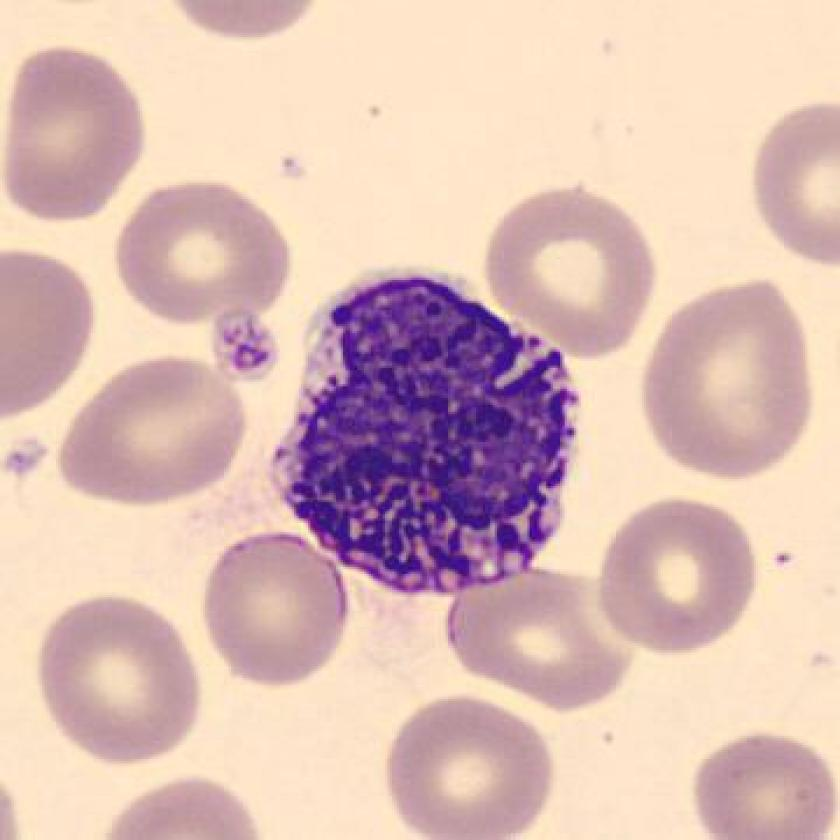basophil: (272, 263, 577, 596)
